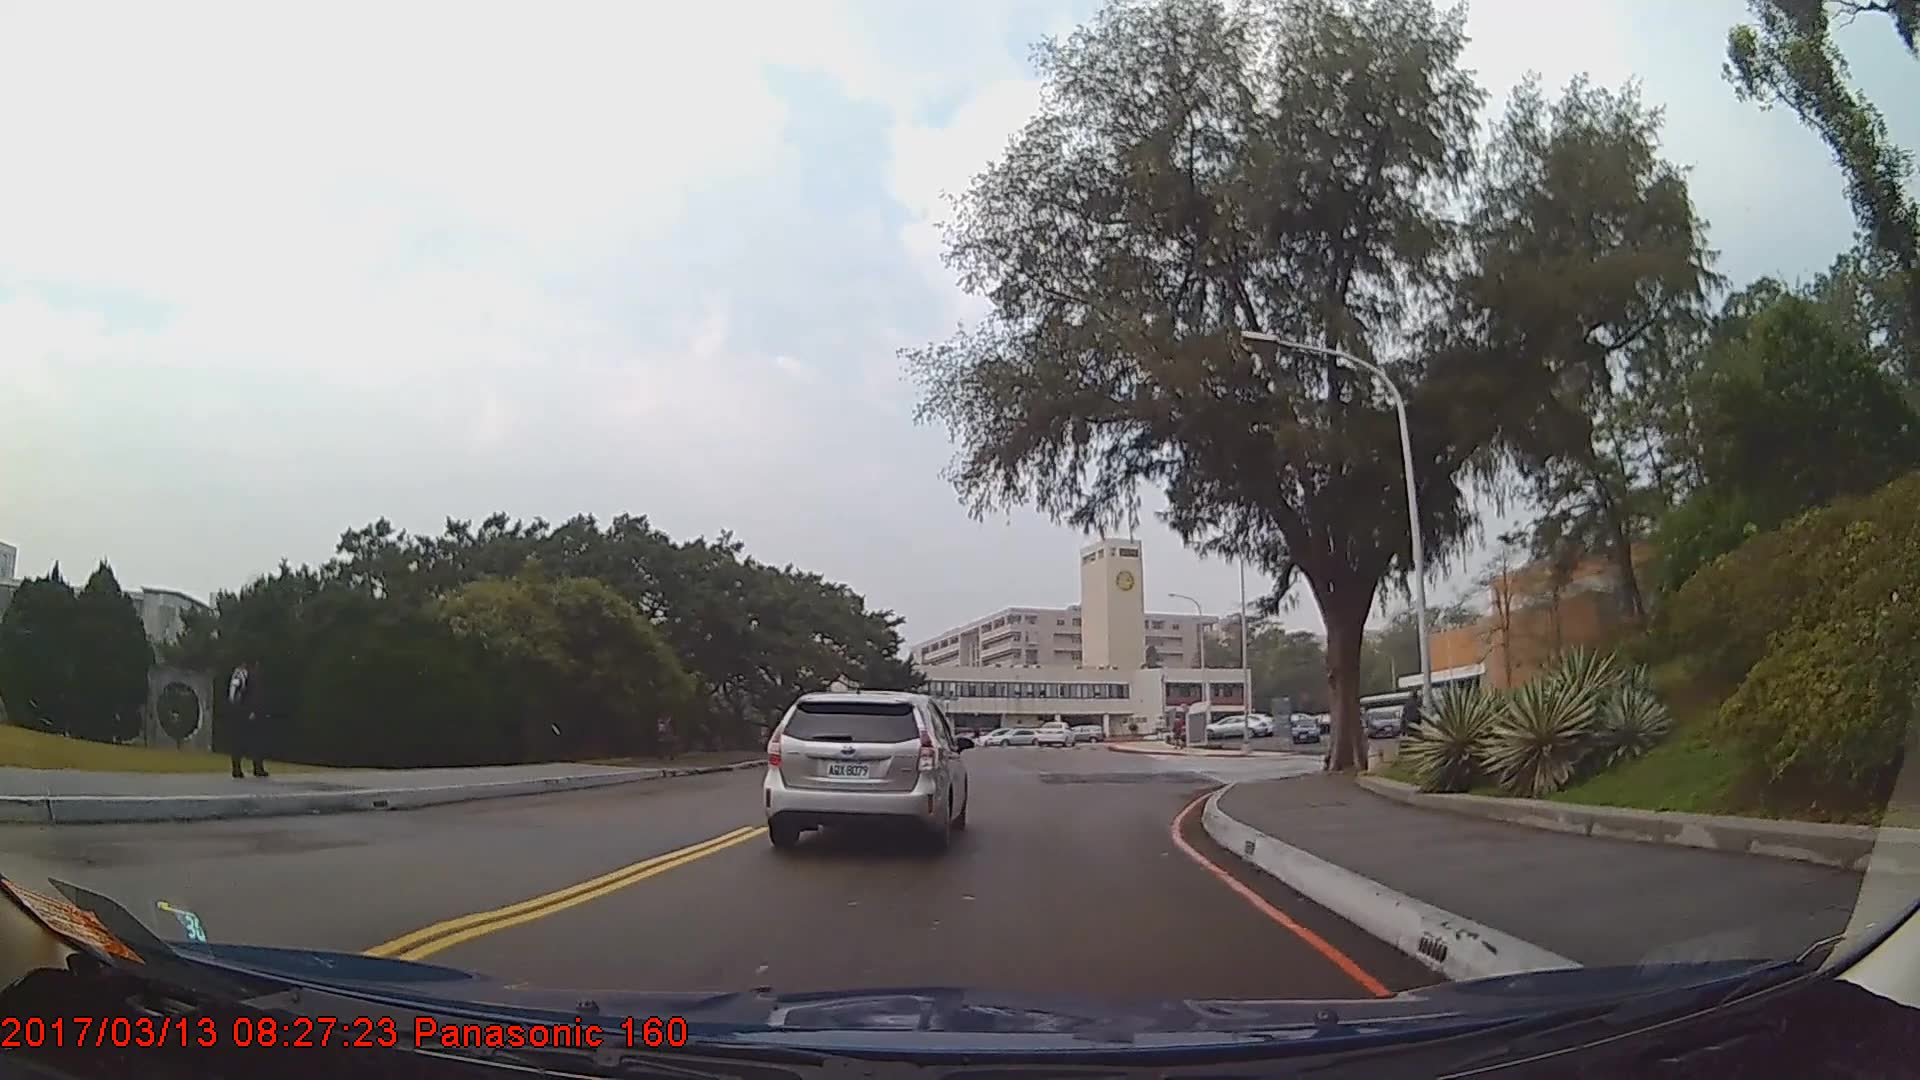pedestrian: (222, 640, 279, 779), (1400, 686, 1427, 767)
vehicle: (763, 685, 965, 849), (1204, 710, 1270, 737), (986, 723, 1047, 748), (1035, 717, 1079, 744), (1368, 703, 1398, 733), (1289, 716, 1319, 744)
